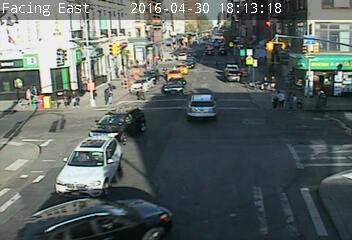neg: (191, 106, 212, 134), (99, 40, 118, 66), (230, 167, 249, 193), (64, 160, 83, 185), (168, 80, 186, 104), (294, 123, 312, 146), (267, 154, 285, 177), (109, 161, 126, 184), (42, 116, 59, 139), (12, 122, 28, 144), (279, 47, 295, 68), (159, 177, 175, 198), (153, 48, 168, 68), (227, 57, 242, 77), (189, 181, 204, 201), (19, 178, 34, 198), (65, 27, 79, 45), (119, 208, 131, 225)
pos: (56, 88, 72, 109), (273, 90, 288, 110), (135, 83, 149, 102), (68, 88, 82, 107), (23, 86, 36, 103), (102, 85, 114, 102)
